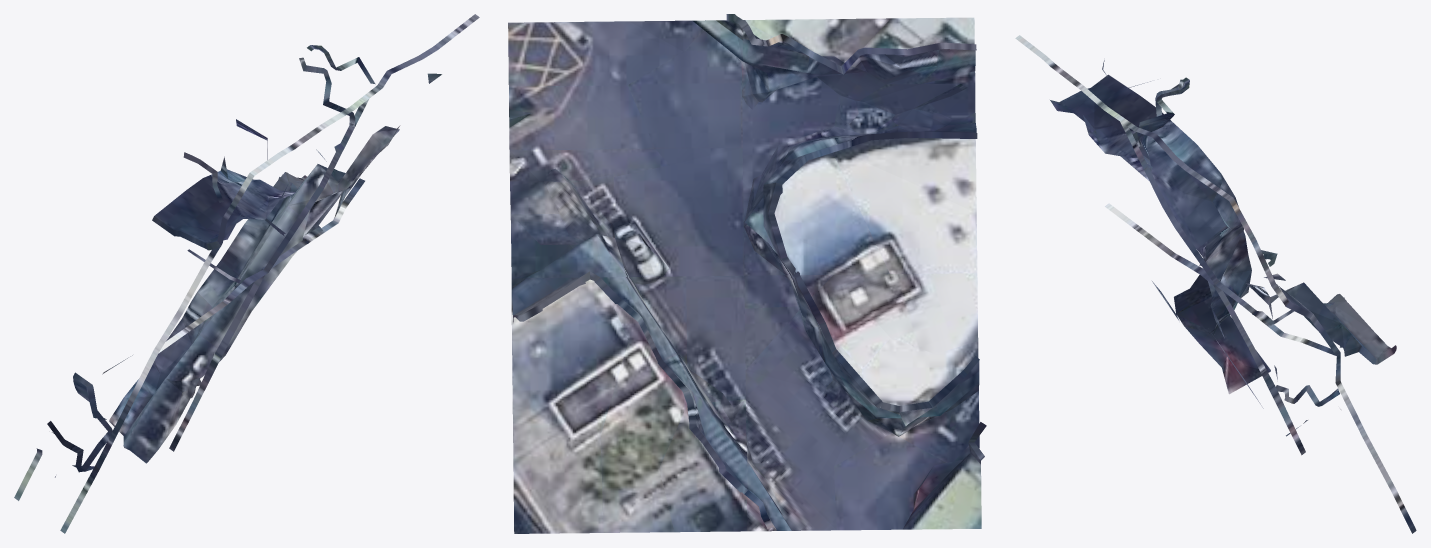
3 views of the same model, side by side, from view 1: azimuth 30°, elevation 25°; view 2: azimuth 150°, elevation 25°; view 3: azimuth 270°, elevation 25° (orthographic). The views are drawn at different scales.
Size of the model in its own units: 41.13 by 37.18 by 32.42.
1 material, 1 textured.
